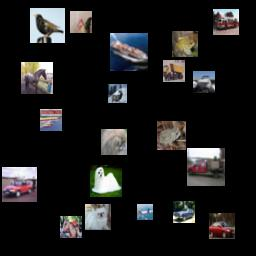airplane: (40, 109, 62, 131), (137, 204, 153, 220)
automobile: (2, 167, 37, 202), (209, 213, 235, 239), (173, 201, 195, 223)
bird: (30, 8, 65, 43), (70, 11, 92, 33)
deer: (108, 84, 127, 103)
dog: (90, 165, 122, 197), (101, 129, 127, 155), (85, 204, 111, 230)
frog: (157, 121, 186, 150), (172, 31, 198, 57)
ship: (110, 33, 148, 71), (193, 71, 215, 93)
truck: (187, 148, 225, 186), (213, 9, 239, 35), (163, 60, 185, 82)
